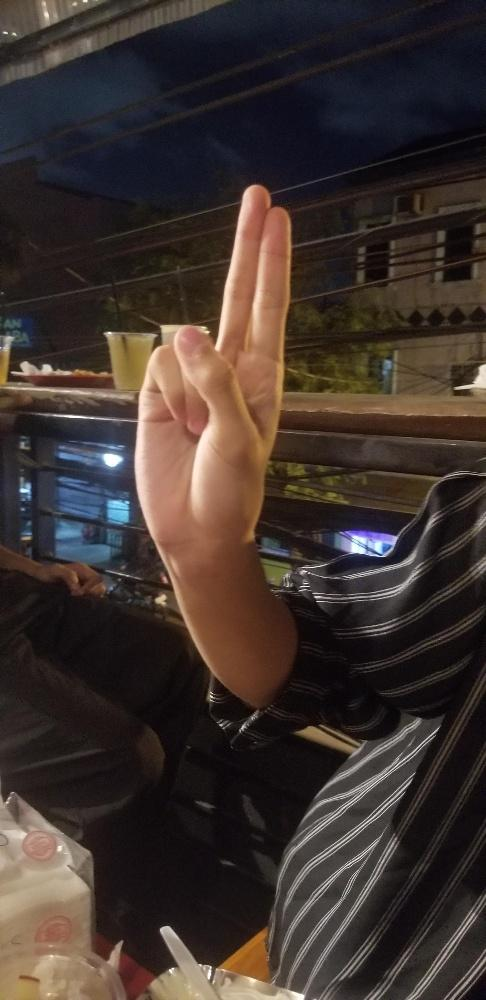u: (130, 180, 295, 559)
